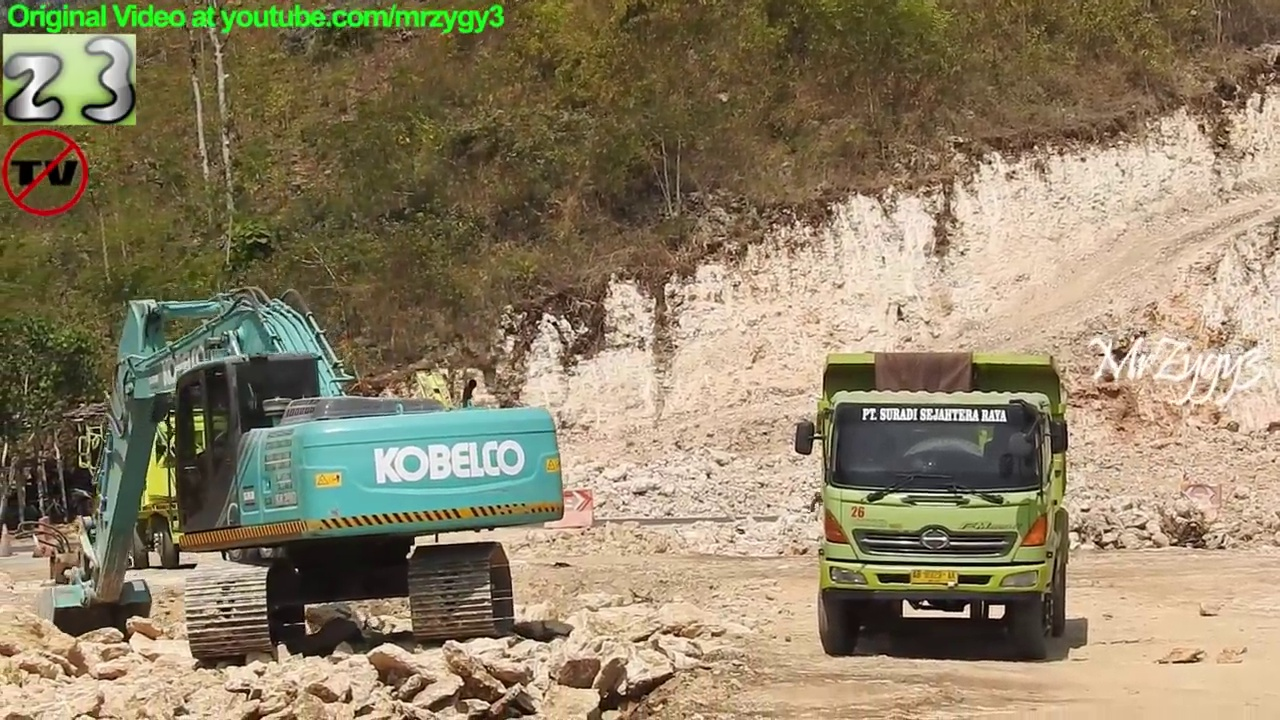excavator: (29, 282, 571, 667)
truck: (69, 365, 505, 575), (792, 345, 1078, 664)
